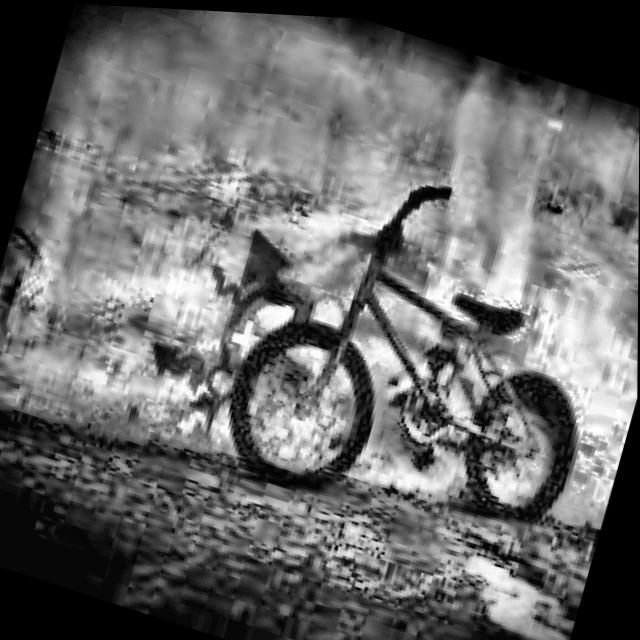bike: (210, 129, 639, 567)
